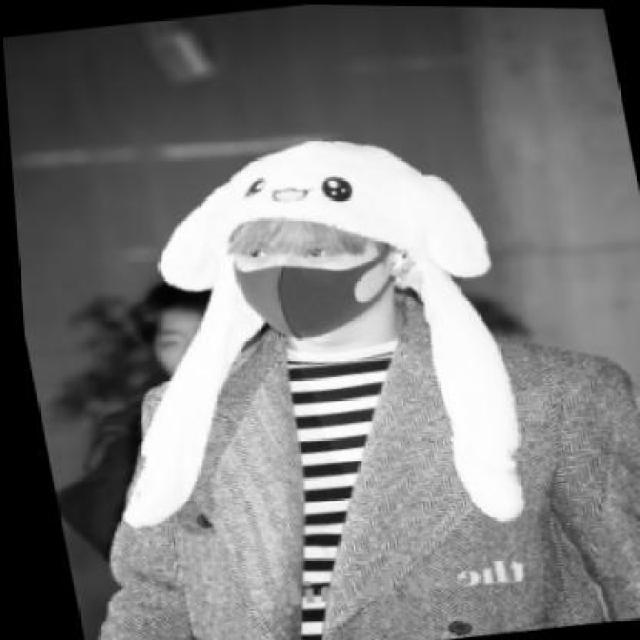hat: (112, 137, 517, 526)
